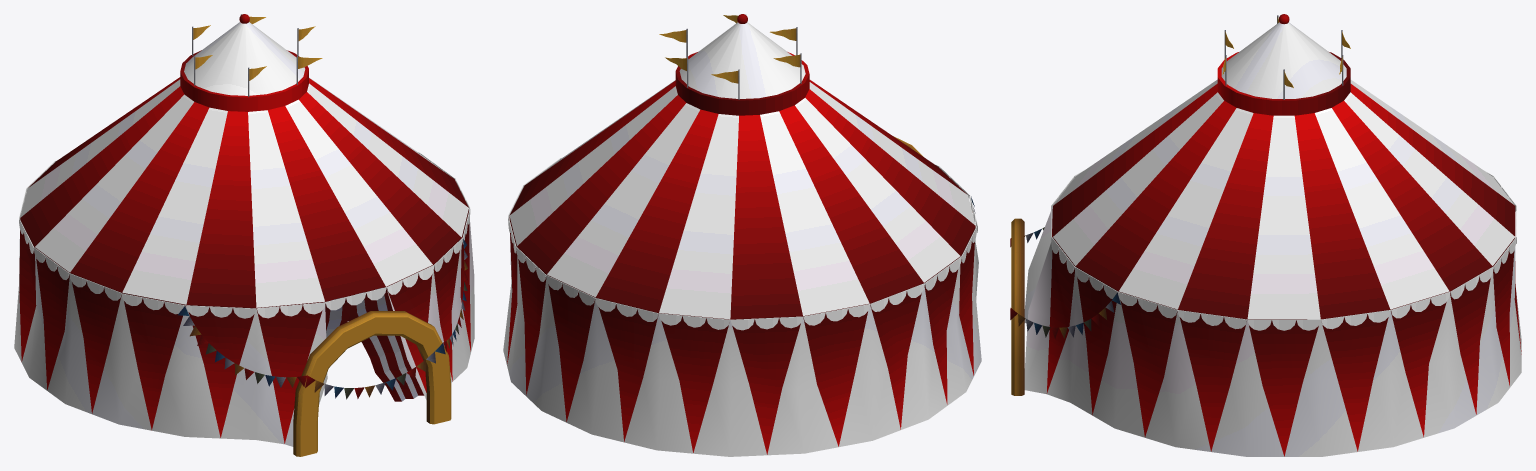
File: SM_Circus_Tent.fbx
The picture shows the model from 3 angles, left to right: view 1: azimuth 30°, elevation 25°; view 2: azimuth 150°, elevation 25°; view 3: azimuth 270°, elevation 25°; orthographic projection. The views are drawn at different scales.
Parts seen in each view (by area): view 1: Circus_Tent_Export; view 2: Circus_Tent_Export; view 3: Circus_Tent_Export.
Part boxes in pixels (x1=…): Circus_Tent_Export: x1=14, y1=14, x2=474, y2=456; Circus_Tent_Export: x1=503, y1=14, x2=981, y2=456; Circus_Tent_Export: x1=1010, y1=14, x2=1521, y2=456.
Size of the model in its own units: 1832 by 1457 by 1974.
